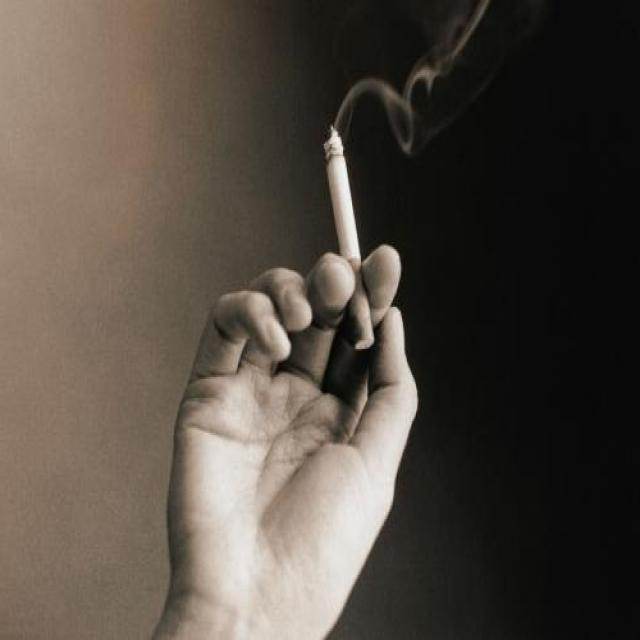smoking: (320, 102, 383, 352)
